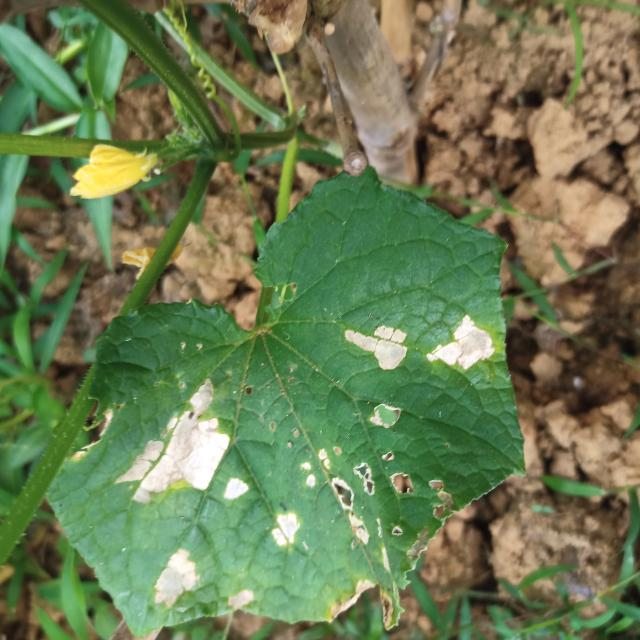disease_cucumber: (125, 375, 304, 614), (308, 398, 453, 545), (336, 313, 502, 391)
